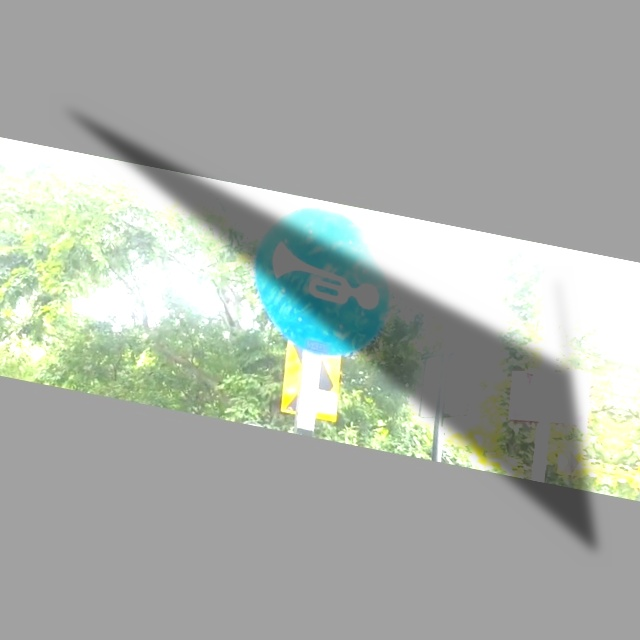Compulsory_Sound_Horn: (242, 201, 410, 361)
